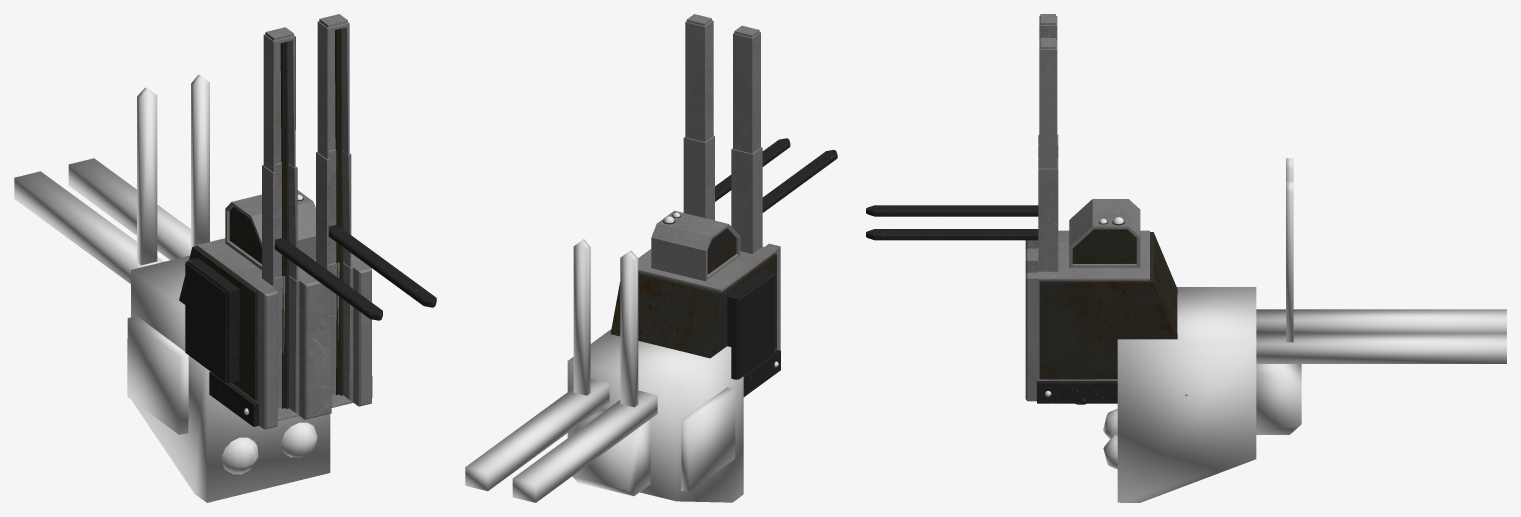
File: SM_Pallet_Truck_02.fbx
3 views of the same model, side by side, from view 1: azimuth 30°, elevation 25°; view 2: azimuth 150°, elevation 25°; view 3: azimuth 270°, elevation 25° (orthographic). The views are drawn at different scales.
Visible parts, largest first — view 1: SM_Pallet_Truck_02, SM_Pallet_Truck_02_ConvexHulls; view 2: SM_Pallet_Truck_02_ConvexHulls, SM_Pallet_Truck_02; view 3: SM_Pallet_Truck_02_ConvexHulls, SM_Pallet_Truck_02.
Boxes of the visible parts, x1,y1,x2,y2 form: SM_Pallet_Truck_02: (179, 14, 436, 429); SM_Pallet_Truck_02_ConvexHulls: (14, 74, 330, 502); SM_Pallet_Truck_02_ConvexHulls: (465, 239, 743, 502); SM_Pallet_Truck_02: (610, 14, 837, 396); SM_Pallet_Truck_02_ConvexHulls: (1103, 158, 1506, 502); SM_Pallet_Truck_02: (866, 14, 1188, 404).
Bounding box in the file's own units: 1.23 × 4.34 × 5.67.
